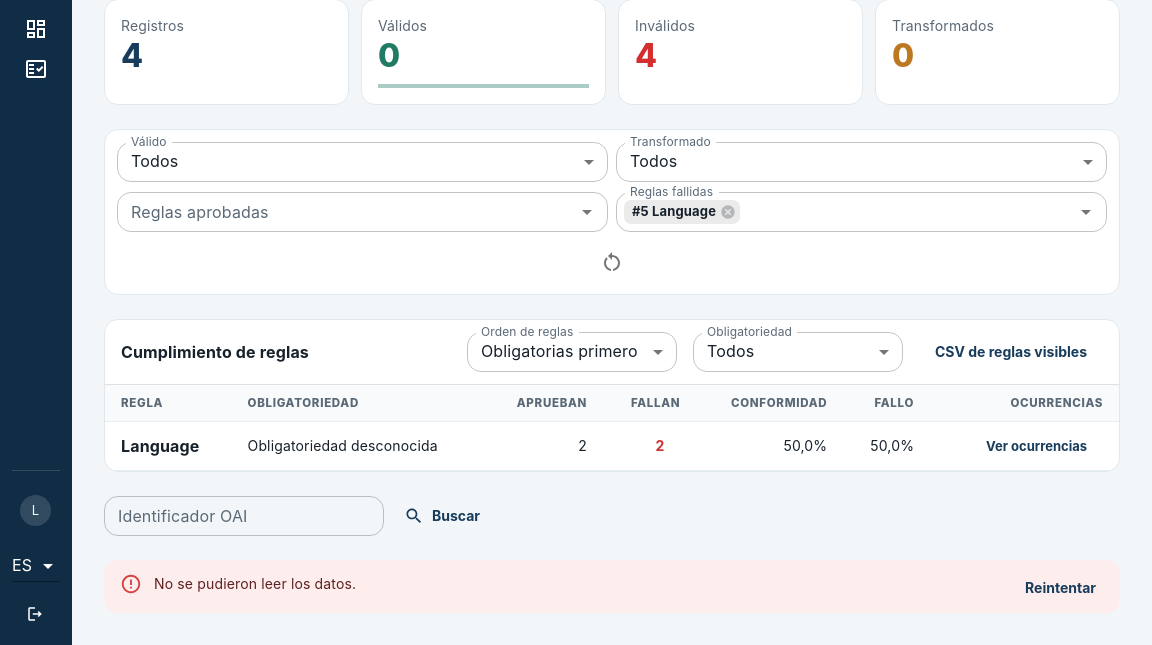
Test: retries a malformed record page and keeps the requested cohort
(page scrolled)
Click the button "Reintentar" at (1060, 589), box x1=1009 y1=570 x2=1112 y2=607
(page scrolled)
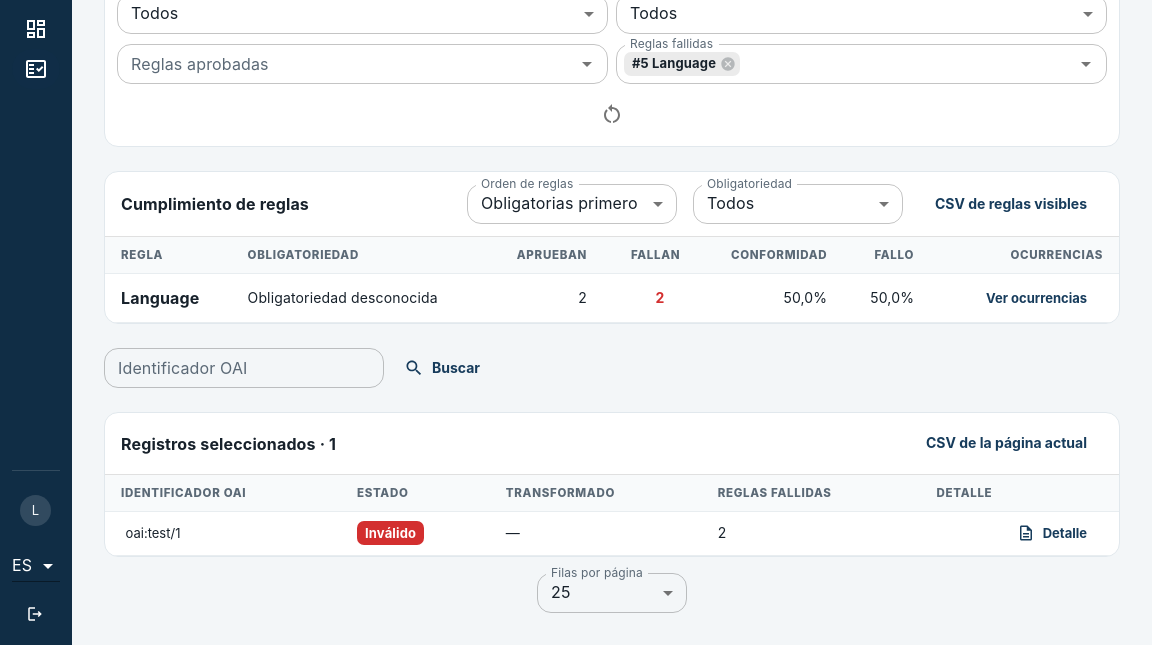
Expected: the button "oai:test/1" is shown, x1=121 y1=522 x2=185 y2=545
